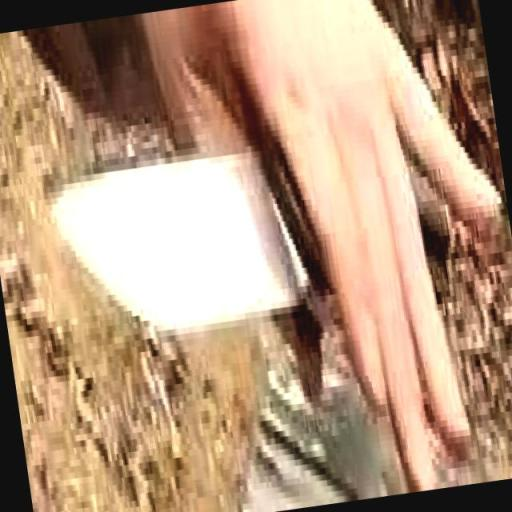knife: (22, 24, 483, 411)
